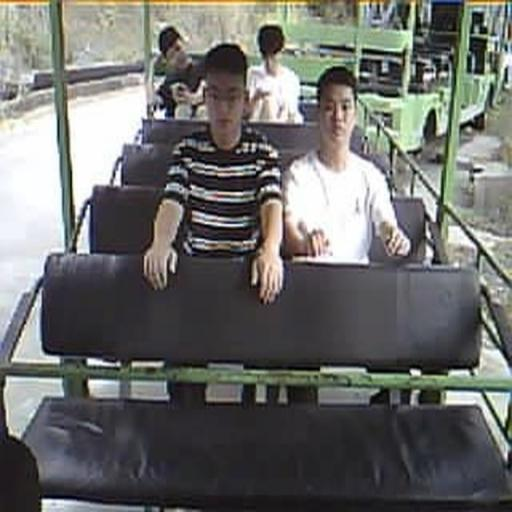persona: (142, 42, 285, 306), (282, 65, 412, 265), (145, 25, 208, 122), (246, 23, 304, 124)
